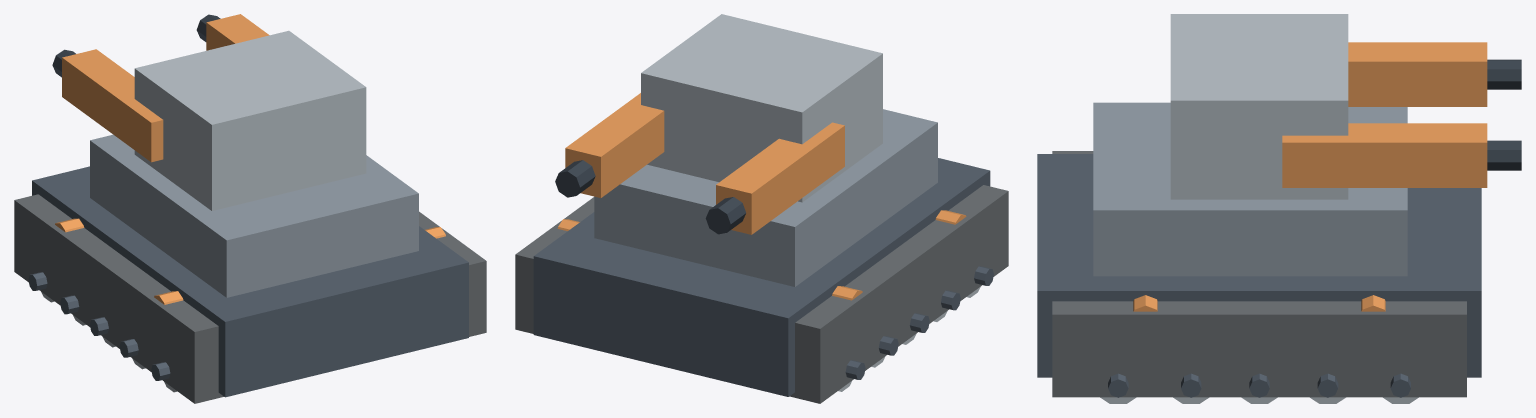
Rendered from thor.glb.
The picture shows the model from 3 angles, left to right: view 1: azimuth 30°, elevation 25°; view 2: azimuth 150°, elevation 25°; view 3: azimuth 270°, elevation 25°; orthographic projection. The views are drawn at different scales.
Parts seen in each view (by area): view 1: detail_000, detail_028, detail_001, detail_002, detail_029, detail_015, detail_031; view 2: detail_000, detail_028, detail_001, detail_002, detail_029, detail_031, detail_015, detail_032, detail_030; view 3: detail_015, detail_001, detail_028, detail_000, detail_031, detail_029, detail_030, detail_032.
Boxes of the visible parts, x1,y1,x2,y2 form: detail_000: [32, 166, 468, 397]; detail_028: [134, 30, 366, 210]; detail_001: [90, 134, 418, 297]; detail_002: [14, 194, 223, 403]; detail_029: [62, 49, 163, 162]; detail_015: [419, 211, 486, 336]; detail_031: [206, 14, 269, 50]; detail_000: [533, 158, 990, 396]; detail_028: [641, 14, 882, 202]; detail_001: [594, 109, 937, 286]; detail_002: [789, 185, 1008, 403]; detail_029: [716, 122, 844, 234]; detail_031: [565, 93, 664, 197]; detail_015: [515, 197, 594, 333]; detail_032: [555, 160, 595, 197]; detail_030: [705, 197, 745, 234]; detail_015: [1052, 301, 1466, 397]; detail_001: [1093, 102, 1407, 276]; detail_028: [1170, 14, 1348, 199]; detail_000: [1037, 154, 1481, 377]; detail_031: [1282, 123, 1487, 187]; detail_029: [1348, 42, 1487, 106]; detail_030: [1487, 59, 1521, 89]; detail_032: [1487, 140, 1521, 170].
Size of the model in its own units: 1.82 by 1.29 by 2.12.
